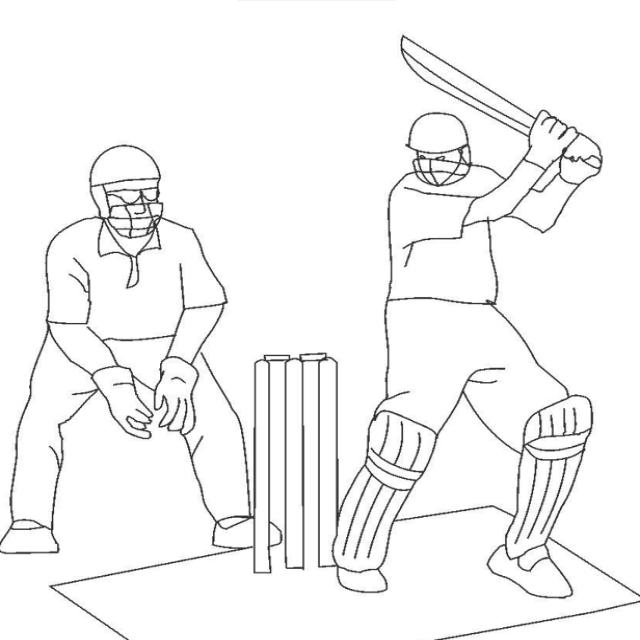stump: (247, 351, 345, 574)
